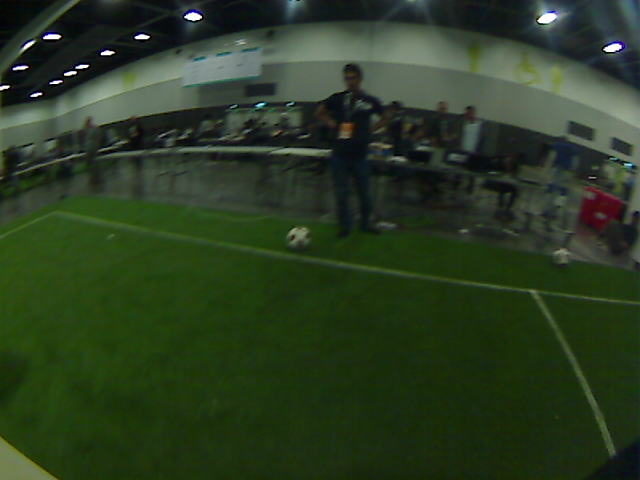ball: (278, 217, 318, 257), (552, 246, 572, 267)
